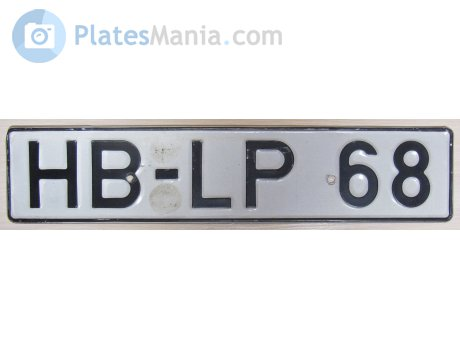License Plates: (24, 131, 436, 215)
